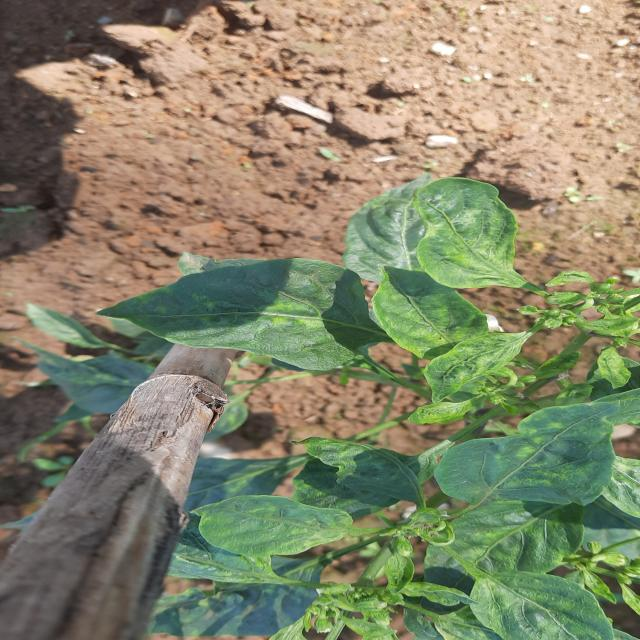thrips: (364, 262, 492, 364), (429, 227, 572, 299), (401, 333, 538, 406)
